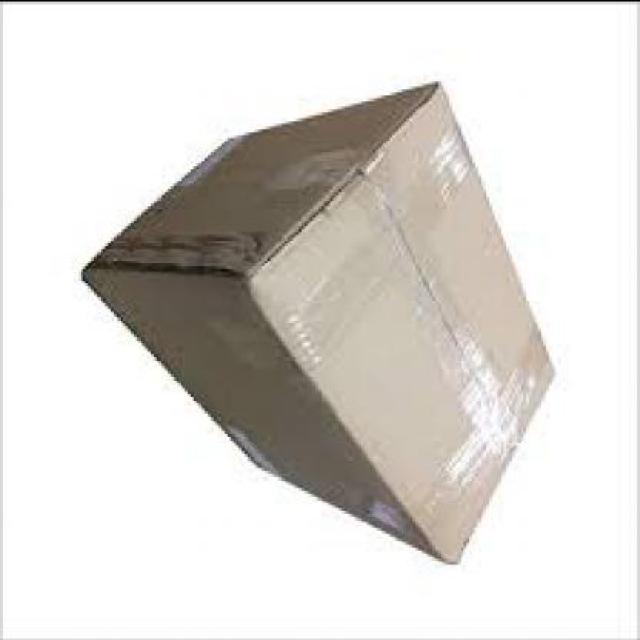CARDBOARD: (82, 83, 555, 563)
